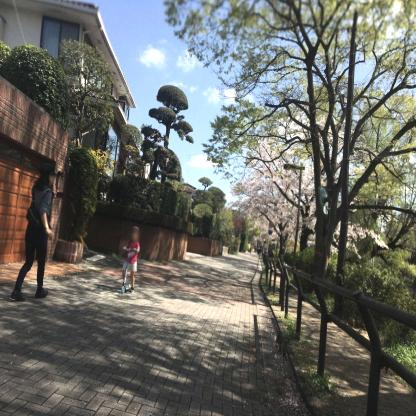Someiyoshino: (228, 98, 408, 259)
